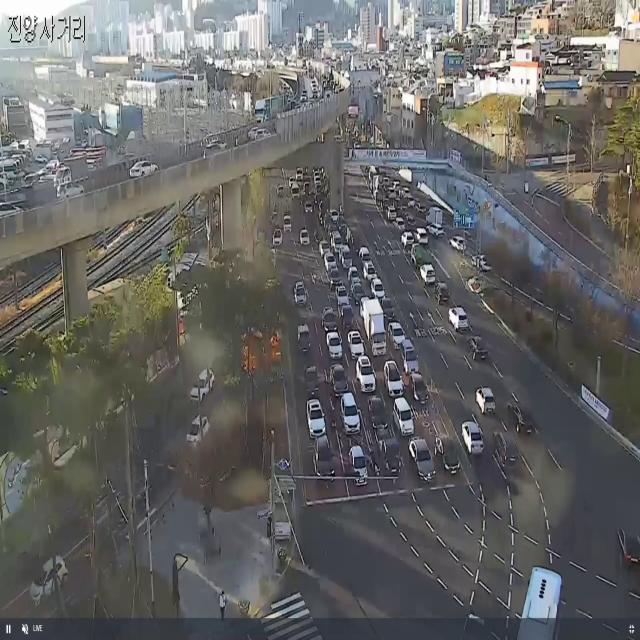bus: (368, 450, 384, 486)
car: (515, 564, 560, 640)
motorcycle: (35, 547, 65, 620), (407, 427, 435, 486), (188, 362, 217, 407), (185, 411, 211, 459), (499, 440, 524, 479), (473, 384, 503, 415), (412, 370, 434, 412), (612, 526, 640, 558), (439, 433, 458, 477), (132, 159, 157, 192), (204, 140, 235, 165), (289, 320, 314, 351), (313, 442, 330, 486), (58, 181, 86, 207), (507, 404, 530, 434), (346, 446, 362, 489), (245, 126, 274, 146), (373, 400, 387, 440), (308, 400, 324, 435), (402, 339, 416, 378), (341, 393, 356, 429), (398, 398, 416, 428), (463, 419, 481, 449), (330, 363, 348, 390), (357, 356, 372, 388), (448, 310, 468, 329), (472, 335, 487, 359), (354, 324, 364, 360), (323, 310, 339, 331), (384, 365, 397, 389), (297, 280, 306, 308), (423, 262, 434, 284), (331, 334, 344, 351), (440, 283, 450, 303), (311, 364, 320, 386), (387, 298, 394, 326), (338, 286, 348, 304), (373, 282, 384, 296), (398, 322, 402, 350), (356, 284, 362, 302)
truck: (372, 414, 404, 492), (364, 296, 390, 364), (49, 159, 94, 190)
